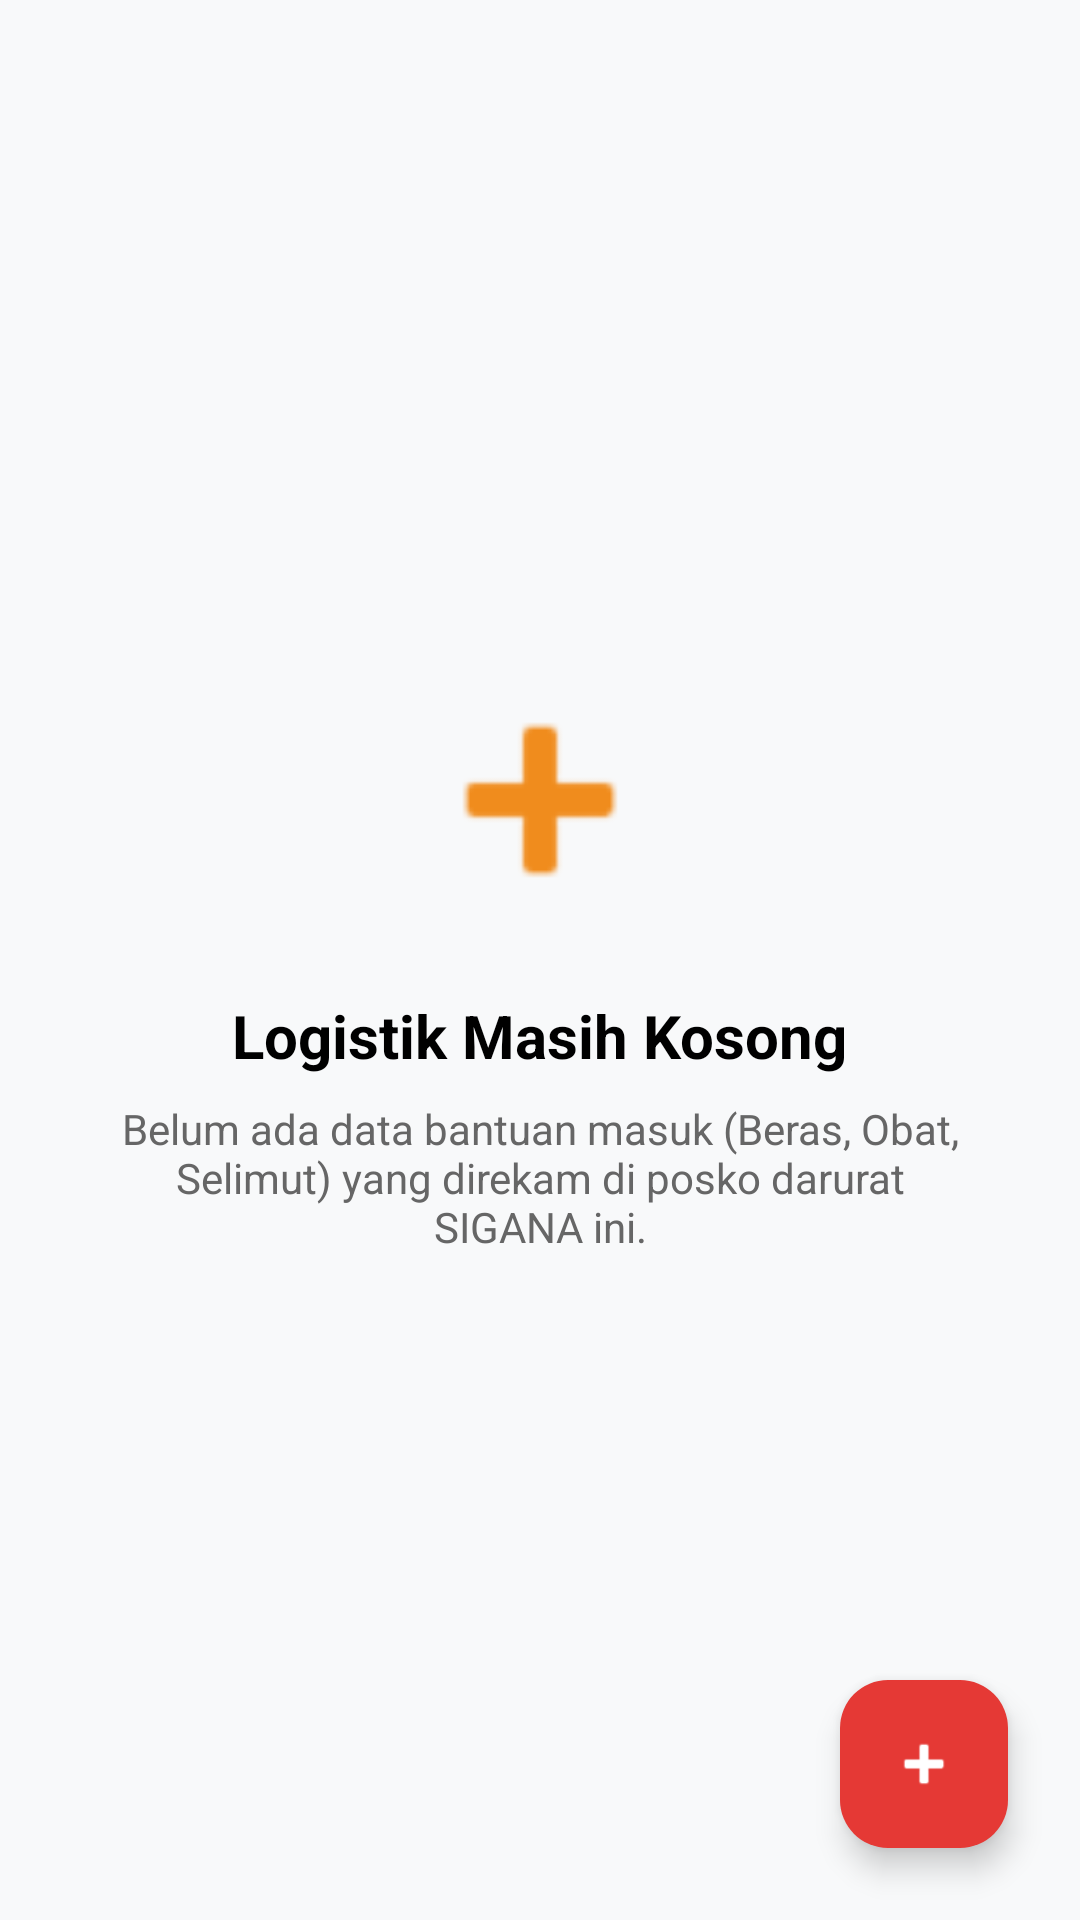

Locate icon controls on the screen. Image size 1080 × 1920, boxes as box=[x1, y1, x2, y2].
add: box=[463, 723, 617, 877]
Tambah Logistik: box=[840, 1680, 1008, 1848]
